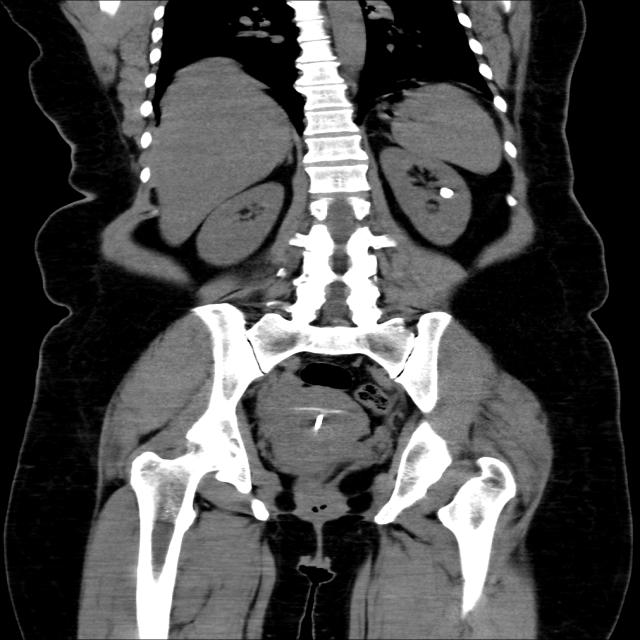kidneystone: (440, 188, 455, 199)
